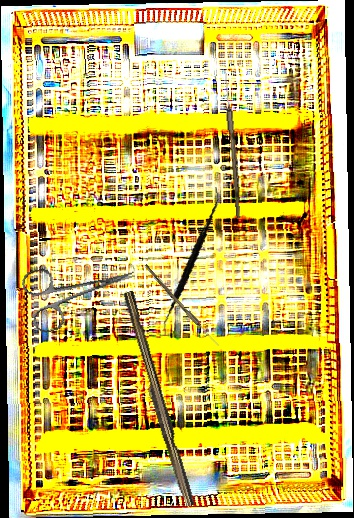Iris Scissors: (19, 245, 145, 336)
Scalpel Handle: (116, 290, 199, 509)
Spatula Surgical: (139, 186, 242, 337)
Surgical Spoon: (142, 263, 221, 348), (221, 71, 244, 218)
